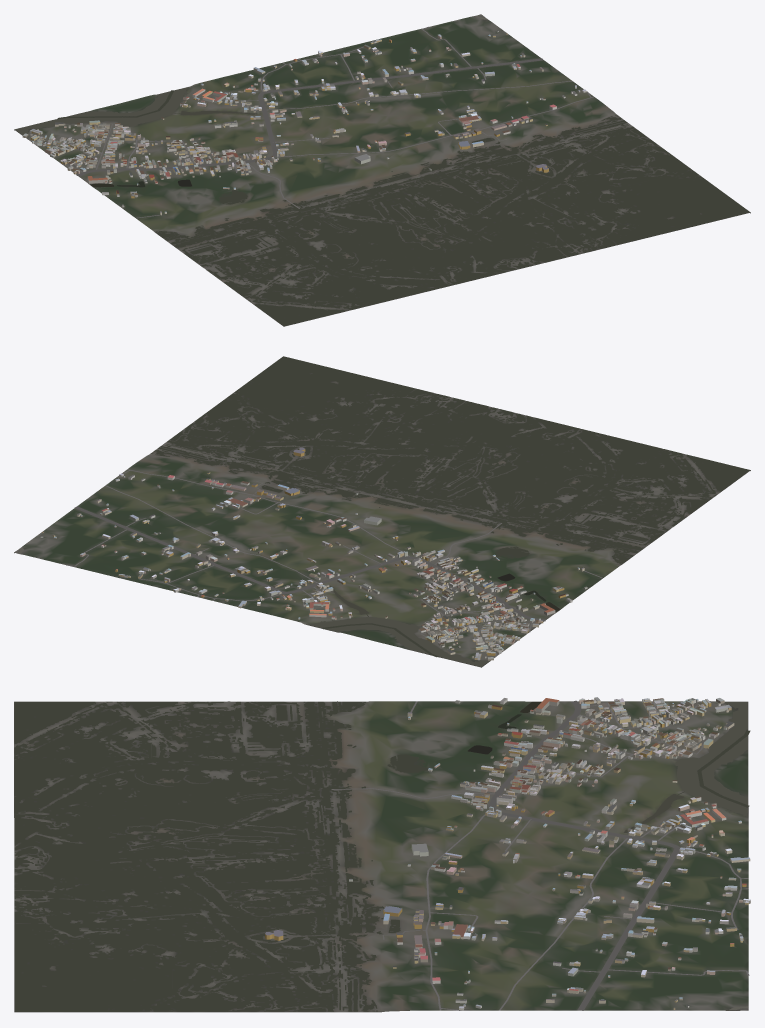
3 views of the same model, one above another, from view 1: azimuth 30°, elevation 25°; view 2: azimuth 150°, elevation 25°; view 3: azimuth 270°, elevation 25° (orthographic). The views are drawn at different scales.
Visible parts, largest first — view 1: ground, water, buildings, roads; view 2: ground, water, buildings, roads; view 3: ground, water, buildings, roads.
Boxes of the visible parts, x1,y1,x2,y2 form: ground: (14, 14, 750, 326); water: (15, 15, 749, 326); buildings: (22, 30, 586, 215); roads: (28, 26, 593, 218); ground: (14, 358, 750, 667); water: (18, 356, 749, 666); buildings: (40, 447, 587, 660); roads: (66, 469, 602, 657); ground: (14, 701, 748, 1012); water: (14, 701, 750, 1011); buildings: (265, 697, 750, 1010); roads: (331, 700, 749, 1010).
Bounding box in the file's own units: 1409 × 18.01 × 1405.
